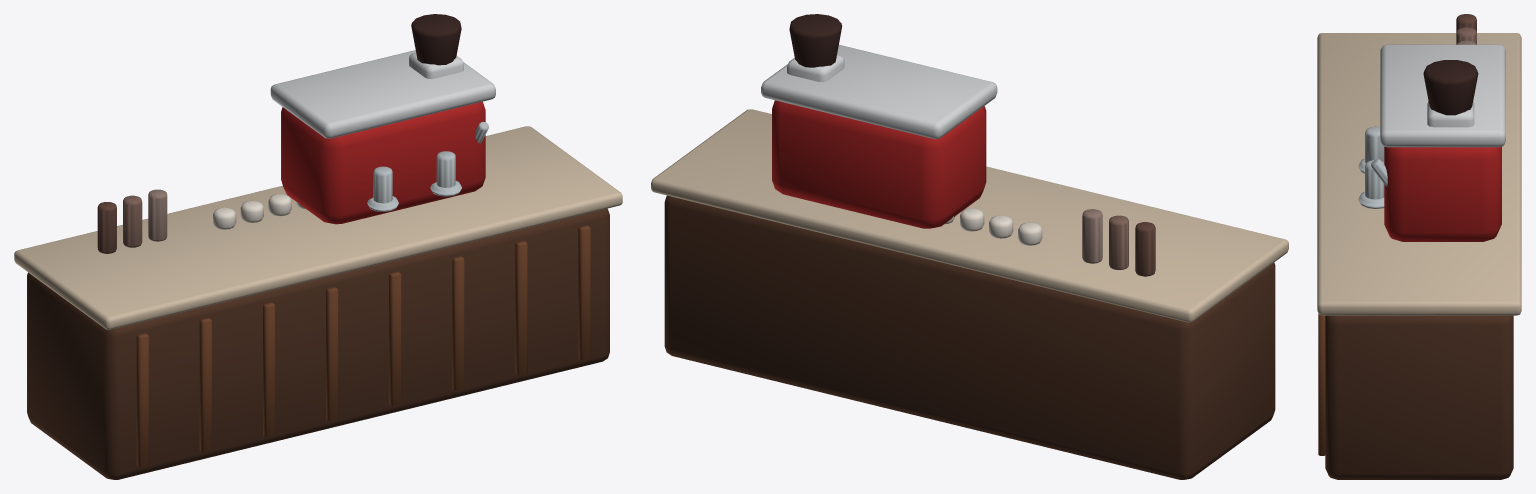
The model's file is f_espresso.glb.
The picture shows the model from 3 angles, left to right: view 1: azimuth 30°, elevation 25°; view 2: azimuth 150°, elevation 25°; view 3: azimuth 270°, elevation 25°; orthographic projection. The views are drawn at different scales.
Visible parts, largest first — view 1: f_espresso; view 2: f_espresso; view 3: f_espresso.
Boxes of the visible parts, x1,y1,x2,y2 form: f_espresso: (14, 14, 622, 479); f_espresso: (651, 14, 1288, 479); f_espresso: (1317, 14, 1521, 479).
Bounding box in the file's own units: 4.1 × 2.47 × 1.3.
